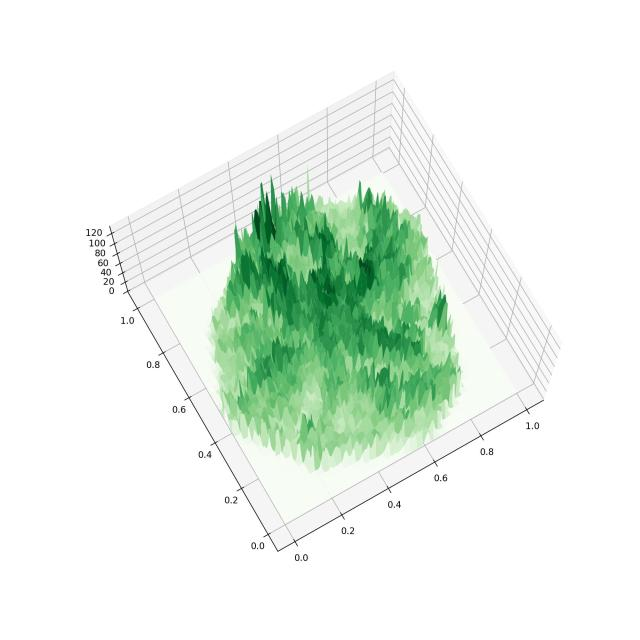spruce: (52, 31, 604, 586)
